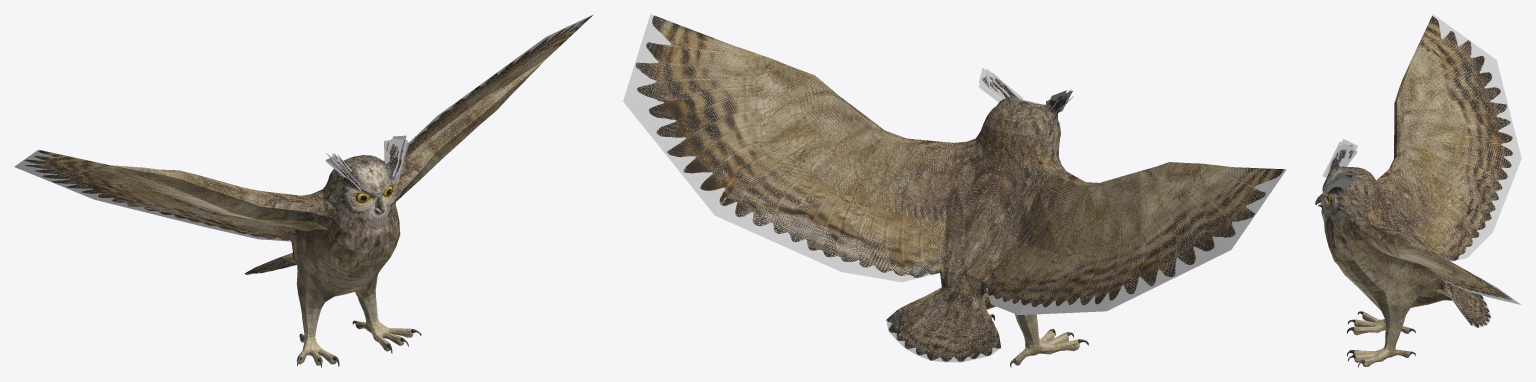
File: Owl.dae
3 views of the same model, side by side, from view 1: azimuth 30°, elevation 25°; view 2: azimuth 150°, elevation 25°; view 3: azimuth 270°, elevation 25° (orthographic). The views are drawn at different scales.
Parts seen in each view (by area): view 1: skpA882; view 2: skpA882; view 3: skpA882 (×3).
Boxes of the visible parts, x1,y1,x2,y2 form: skpA882: [14, 14, 593, 367]; skpA882: [623, 14, 1286, 367]; skpA882 (×3): [1315, 14, 1521, 367].
Bounding box in the file's own units: 58.83 × 21.6 × 24.68.
